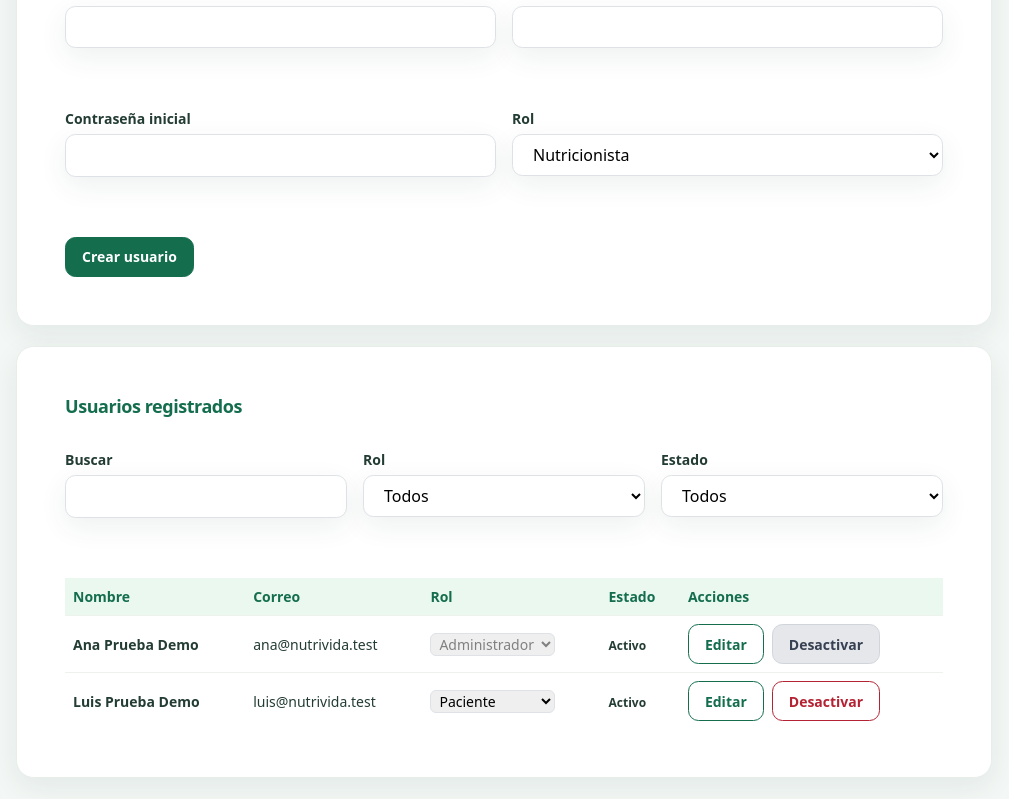
it: Administración: edición, asignaciones y pagos › edita el nombre y el correo de un usuario
The image size is (1009, 799).
(page scrolled)
Click the button "Editar" in the row of "Luis Prueba Demo". click: (726, 701)
box: [688, 681, 764, 721]
(page scrolled)
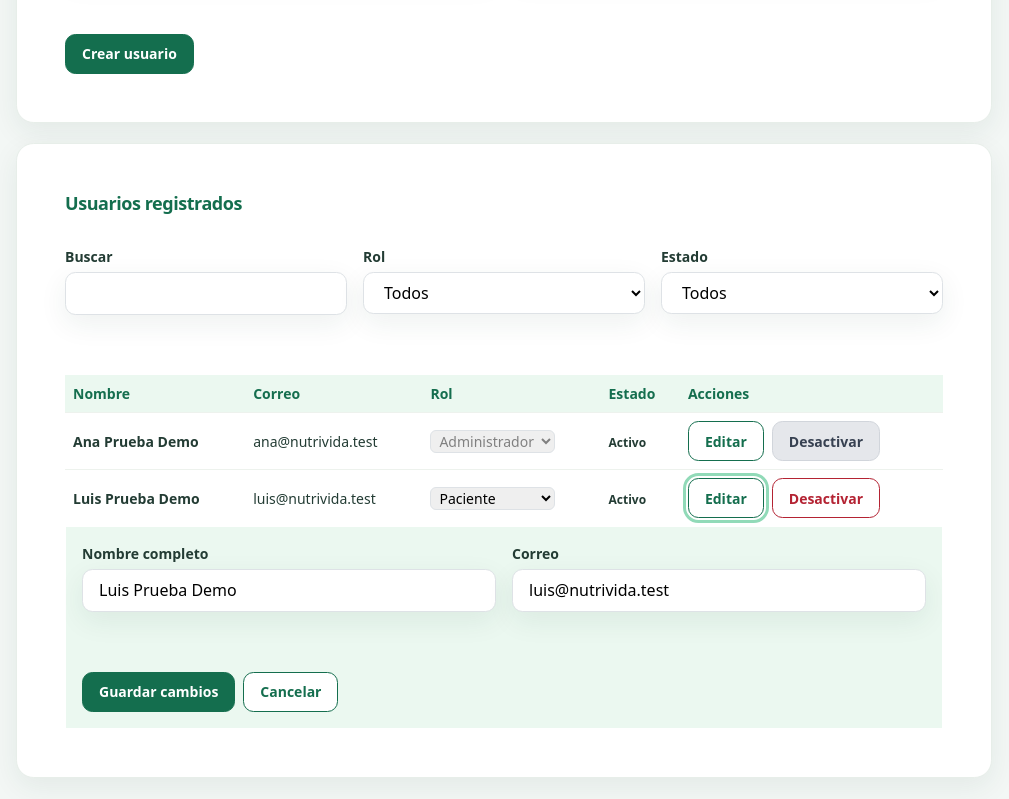
Replace the text in the field labelled "Nombre completo" with "Luis Editado Demo". click: (289, 590)
box: [82, 569, 496, 612]
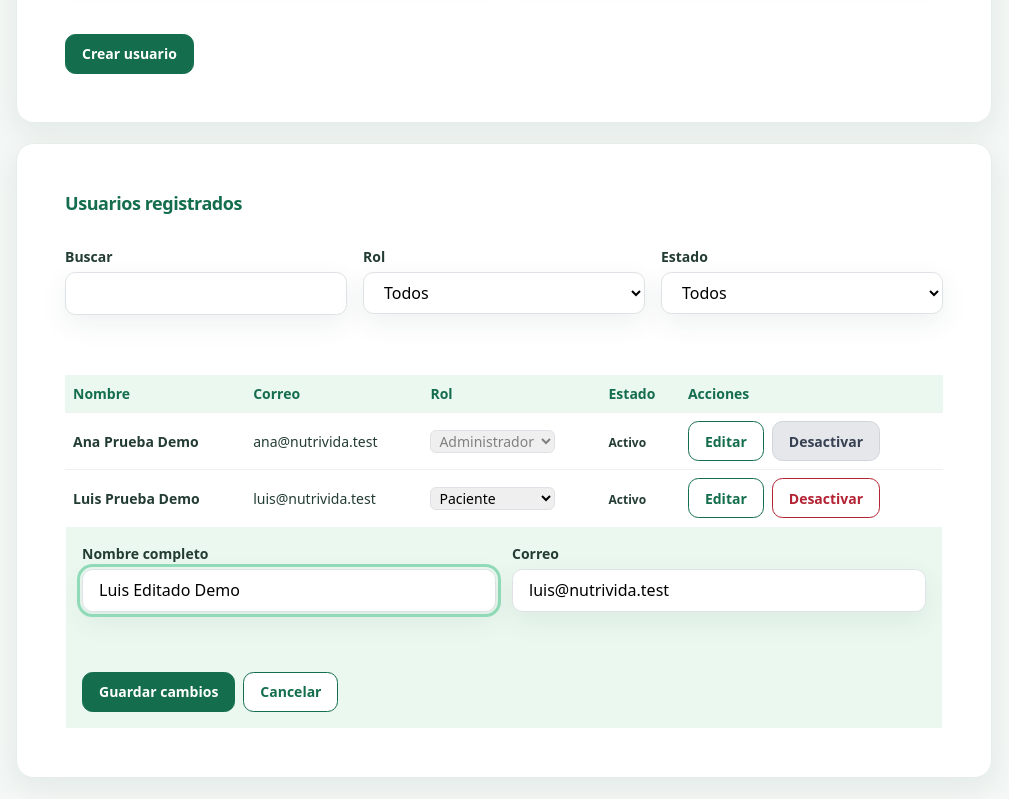
Click the button "Guardar cambios". click: (159, 692)
box: [82, 672, 235, 712]
(page scrolled)
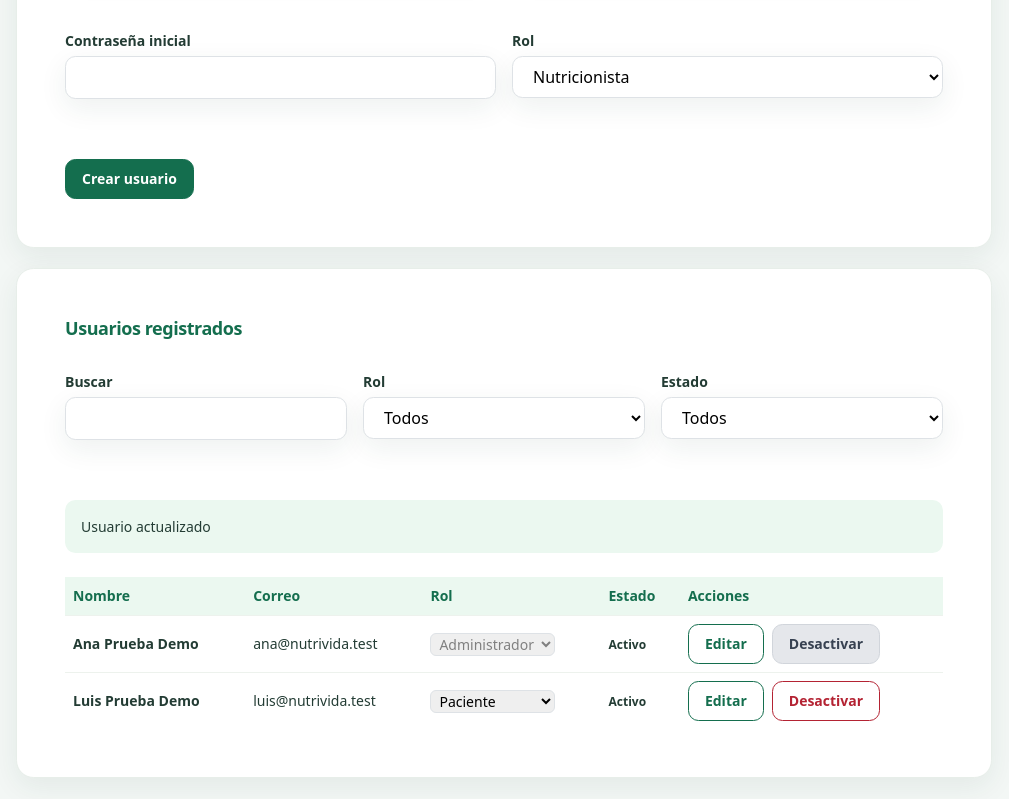
Check: the text "Usuario actualizado" is shown, box [65, 500, 943, 553]
